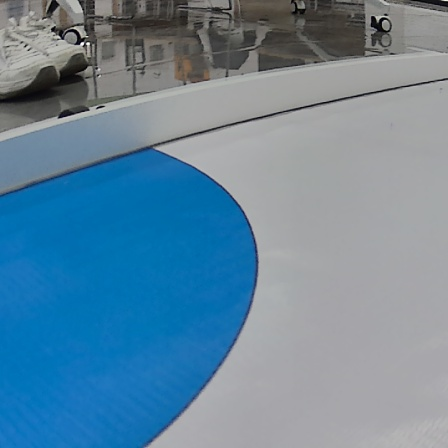blue_base: (0, 145, 260, 448)
